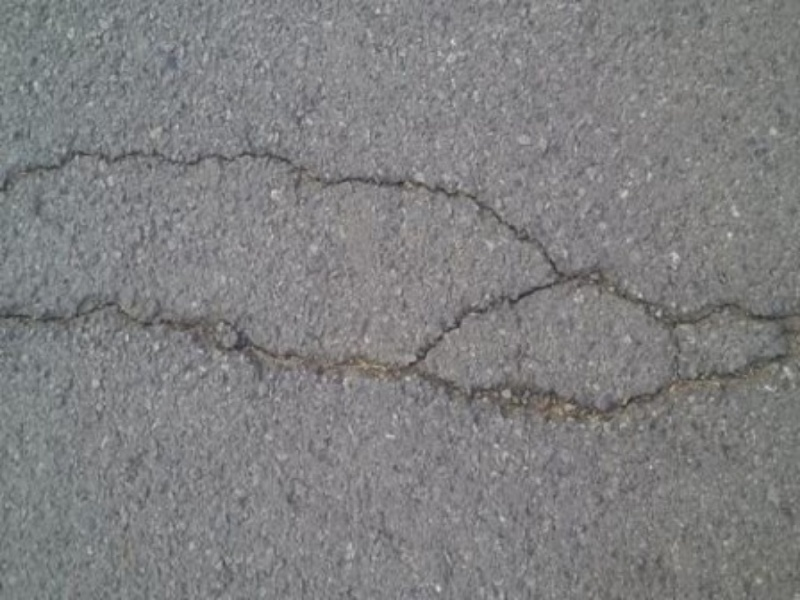crack: (7, 121, 586, 285), (3, 321, 788, 434), (407, 252, 797, 372)
